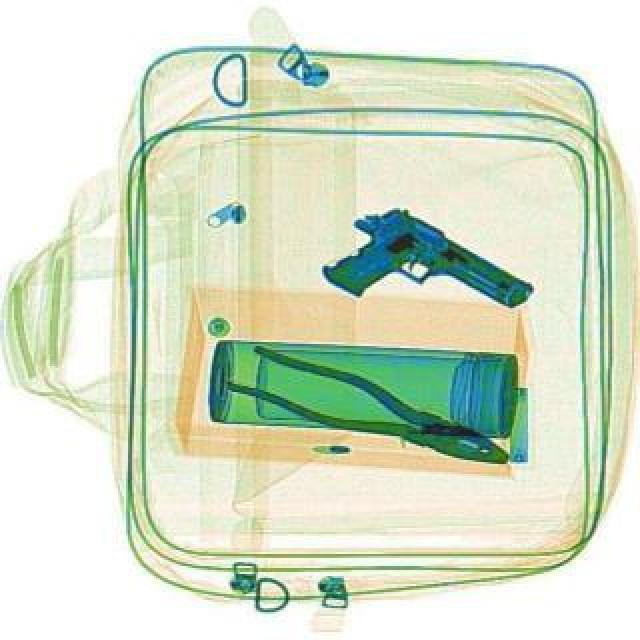gun: (312, 188, 536, 368)
wrench: (222, 336, 516, 484)
